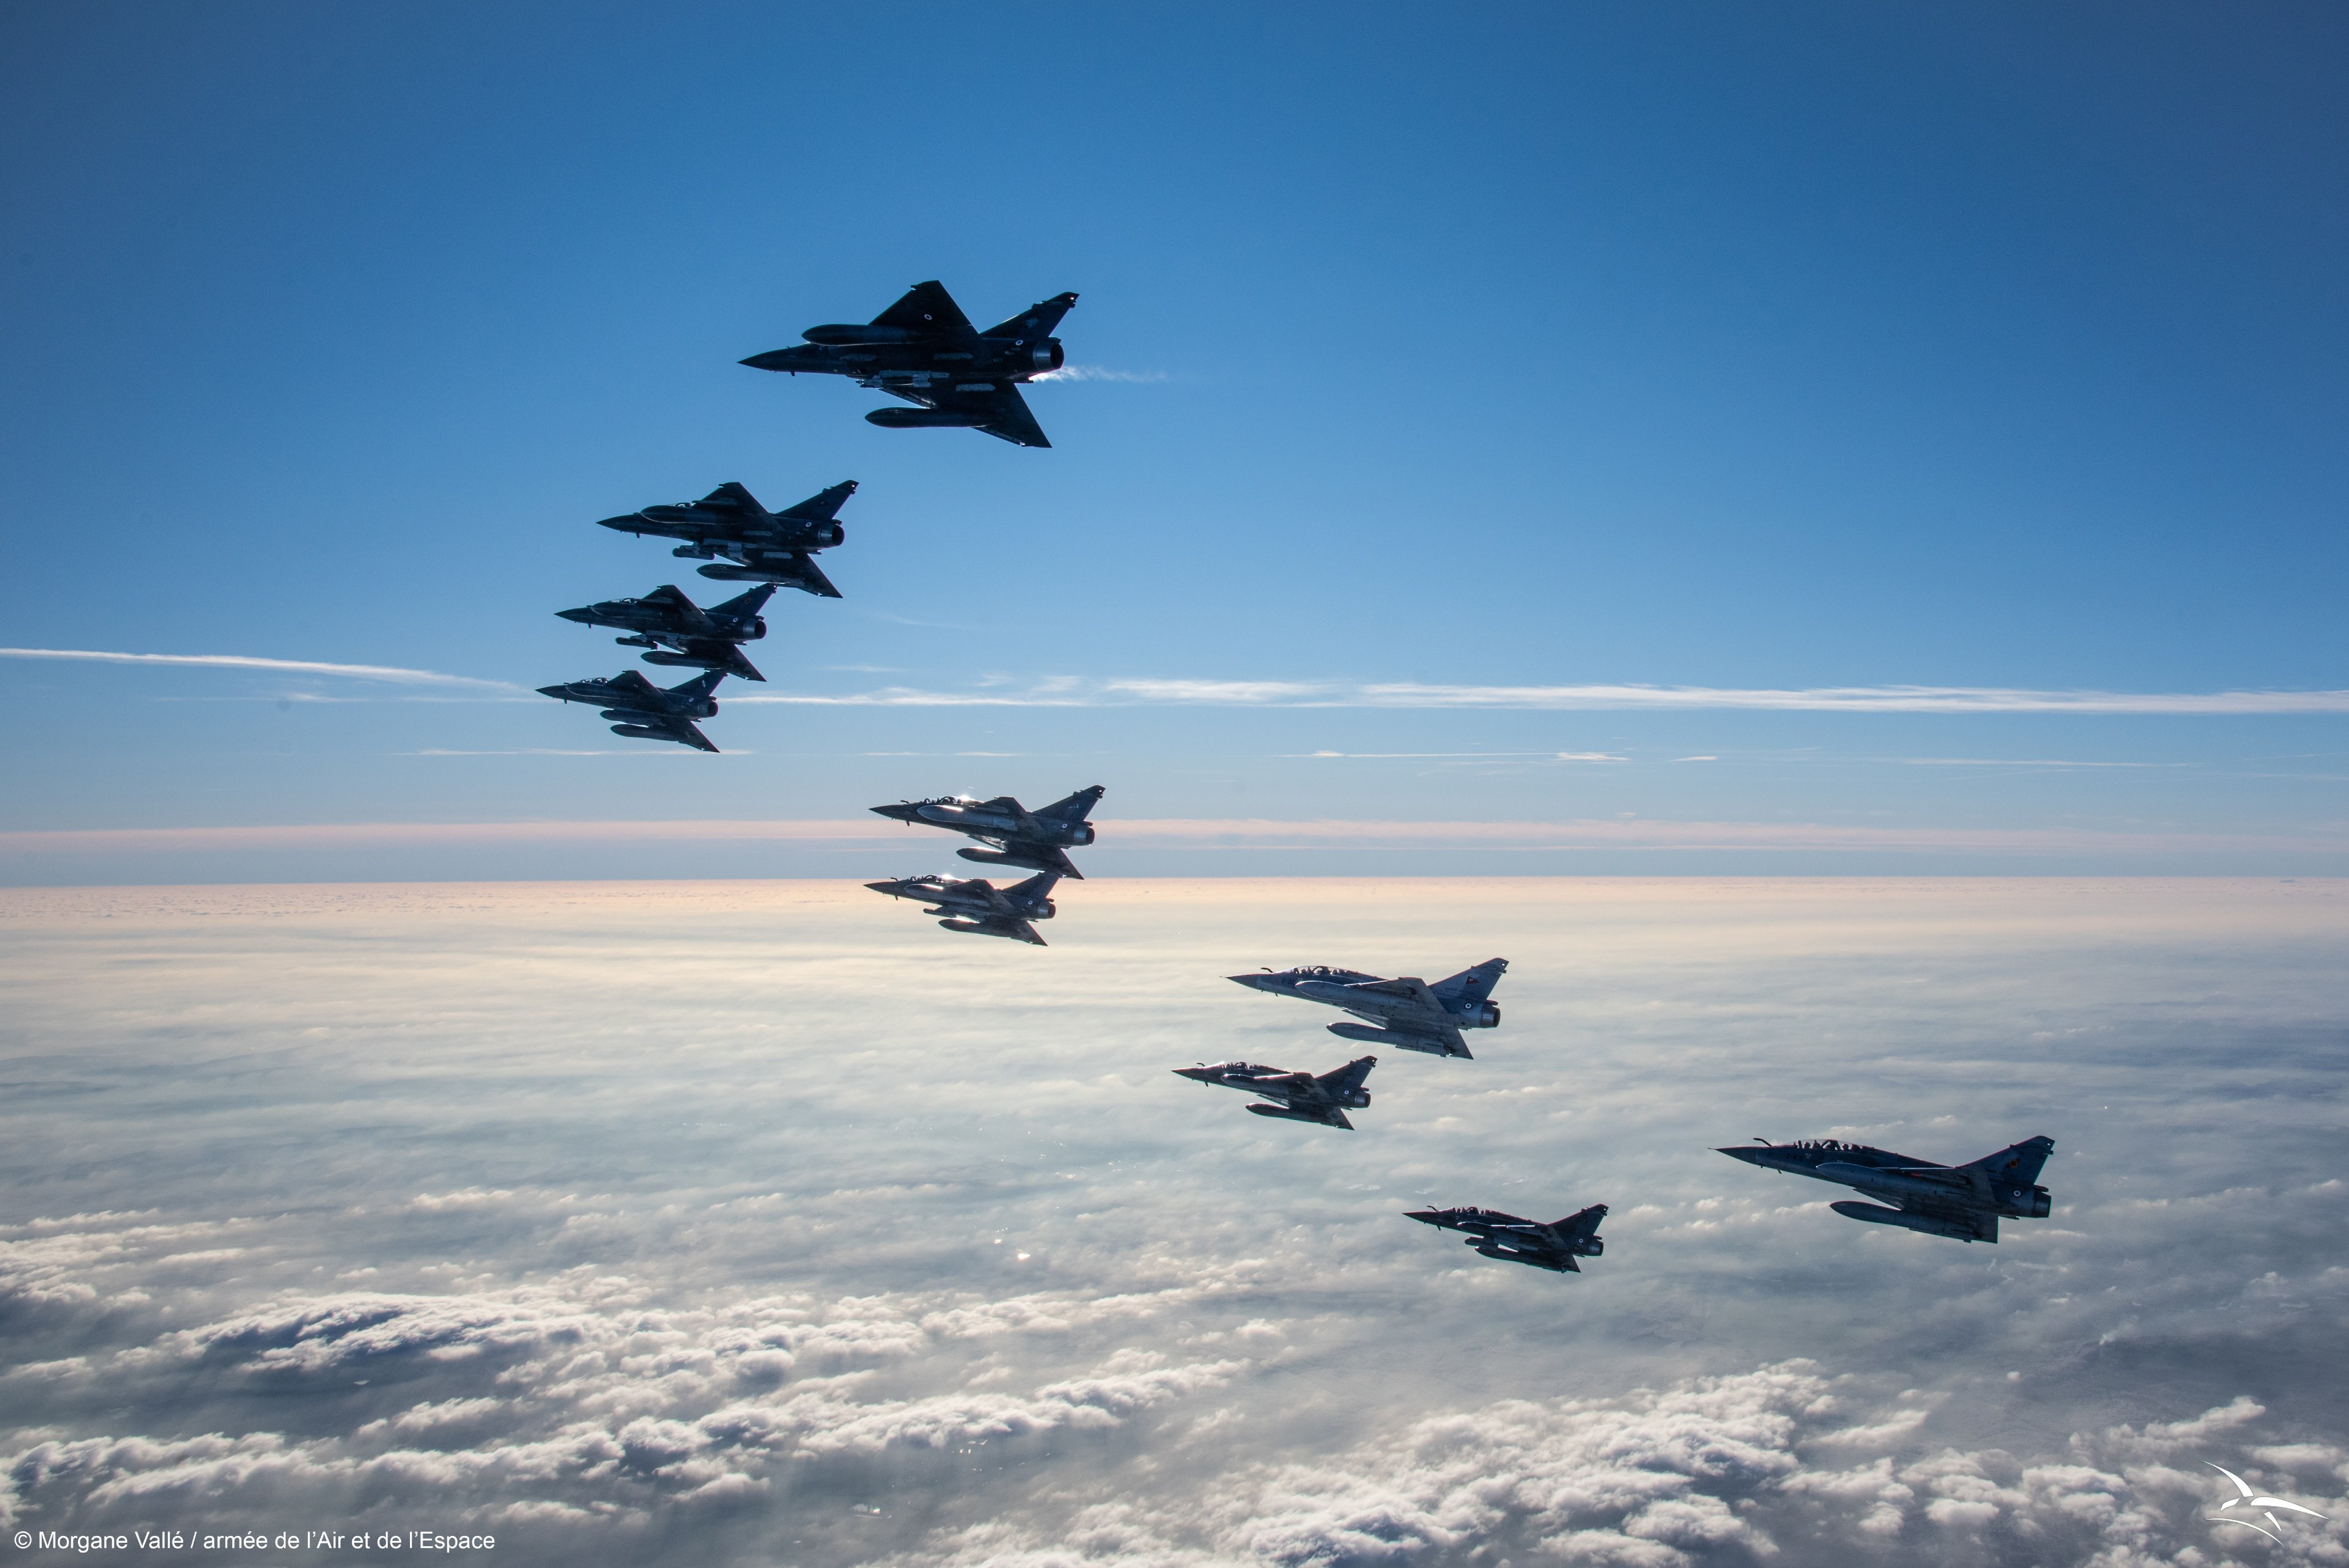Mirage2000: (736, 278, 1081, 448), (1707, 1136, 2055, 1244), (595, 479, 859, 598), (1217, 957, 1509, 1060), (868, 784, 1105, 880), (553, 583, 780, 682), (533, 670, 728, 752), (1170, 1055, 1378, 1130), (862, 871, 1063, 947), (1399, 1204, 1609, 1274)
